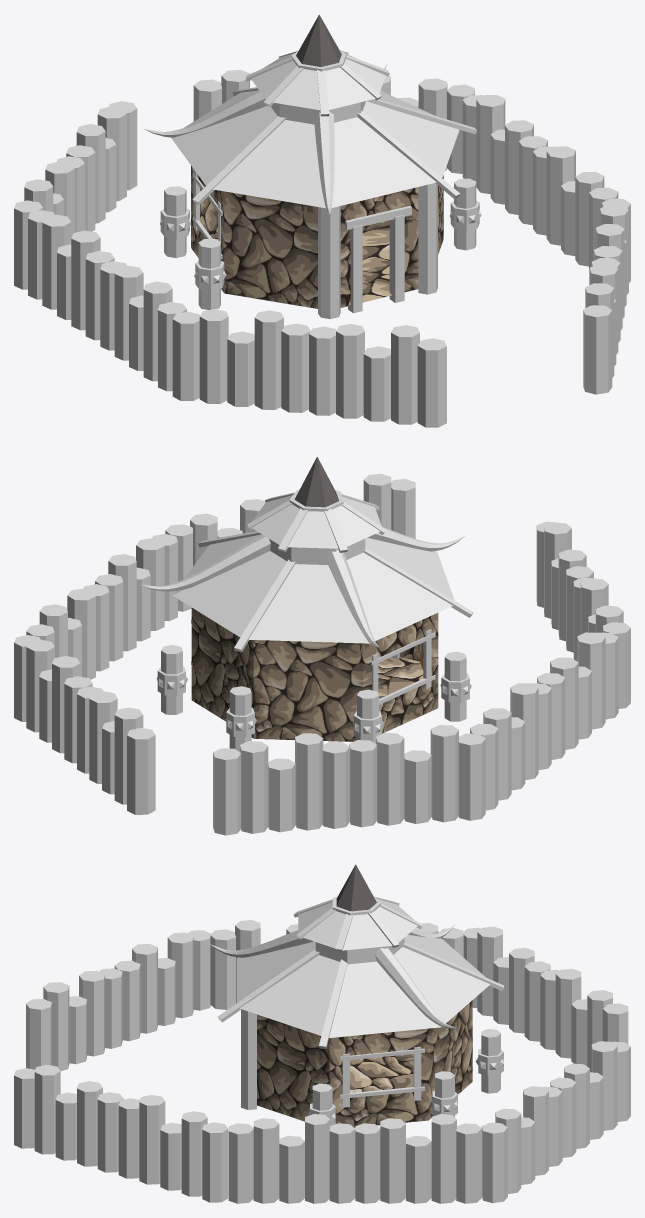
File: Ratusha.fbx
3 views of the same model, one above another, from view 1: azimuth 30°, elevation 25°; view 2: azimuth 150°, elevation 25°; view 3: azimuth 270°, elevation 25° (orthographic). The views are drawn at different scales.
Visible parts, largest first — view 1: Cylinder.030, Circle.001, Circle, Cylinder.028, Cylinder.026, Cylinder.027, Cylinder.029, Cylinder.025, Circle.002, Cylinder.006, Cylinder.005, Cylinder.004 (+11 smaller); view 2: Cylinder.027, Circle, Circle.001, Cylinder.025, Cylinder.028, Cylinder.026, Cylinder.030, Cylinder.029, Circle.002, Cylinder.008, Cylinder.009, Cylinder.011 (+7 smaller); view 3: Cylinder.026, Cylinder.029, Circle.001, Circle, Cylinder.030, Cylinder.025, Cylinder.027, Cylinder.028, Circle.002, Cylinder.005, Cylinder.007, Cylinder.011 (+7 smaller).
Part boxes in pixels (x1,y1,x2,y2): Cylinder.030: (172, 309, 446, 427); Circle.001: (171, 90, 459, 208); Circle: (191, 165, 443, 308); Cylinder.028: (28, 210, 186, 391); Cylinder.026: (462, 94, 618, 269); Cylinder.027: (14, 101, 137, 289); Cylinder.029: (583, 198, 630, 394); Cylinder.025: (193, 69, 474, 173); Circle.002: (251, 53, 385, 110); Cylinder.006: (318, 206, 340, 319); Cylinder.005: (418, 183, 437, 294); Cylinder.004: (160, 186, 190, 258); Cylinder.027: (213, 725, 485, 835); Circle: (191, 608, 438, 741); Circle.001: (172, 534, 454, 643); Cylinder.025: (14, 635, 155, 814); Cylinder.028: (470, 632, 618, 810); Cylinder.026: (26, 534, 177, 679); Cylinder.030: (536, 521, 630, 708); Cylinder.029: (165, 473, 415, 611); Circle.002: (252, 495, 381, 548); Cylinder.008: (440, 651, 471, 721); Cylinder.009: (156, 645, 187, 714); Cylinder.011: (140, 534, 270, 591); Cylinder.026: (228, 1114, 481, 1203); Cylinder.029: (14, 1064, 228, 1202); Circle.001: (236, 935, 489, 1037); Circle: (257, 1000, 472, 1127); Cylinder.030: (26, 930, 210, 1070); Cylinder.025: (481, 1041, 630, 1203); Cylinder.027: (462, 926, 628, 1072); Cylinder.028: (210, 920, 463, 1009); Circle.002: (298, 899, 417, 950); Cylinder.005: (241, 1009, 256, 1109); Cylinder.007: (475, 1029, 503, 1093); Cylinder.011: (375, 948, 456, 1028).
Size of the model in its own units: 418 by 224 by 528.
